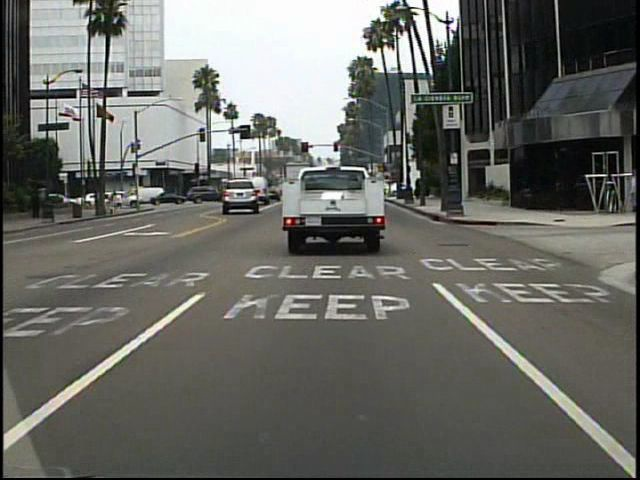person: (629, 169, 637, 214), (113, 191, 126, 216)
